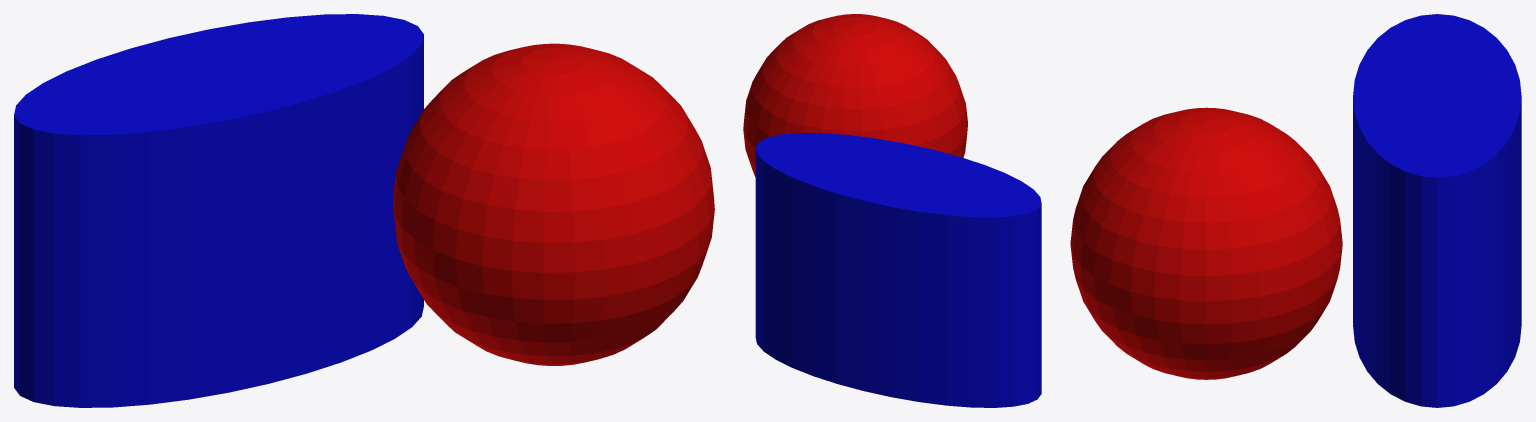
File: minicargador_boton4_derecho.obj
3 views of the same model, side by side, from view 1: azimuth 30°, elevation 25°; view 2: azimuth 150°, elevation 25°; view 3: azimuth 270°, elevation 25° (orthographic). The views are drawn at different scales.
Parts seen in each view (by area): view 1: Cilindro.009, Esfera.001; view 2: Cilindro.009, Esfera.001; view 3: Cilindro.009, Esfera.001.
Part boxes in pixels (x1,y1,x2,y2): Cilindro.009: (14, 14, 423, 407); Esfera.001: (393, 43, 714, 365); Cilindro.009: (755, 133, 1041, 407); Esfera.001: (743, 14, 967, 177); Cilindro.009: (1353, 14, 1521, 407); Esfera.001: (1070, 107, 1342, 379).
Size of the model in its own units: 0.5994 by 0.3631 by 0.5167.
